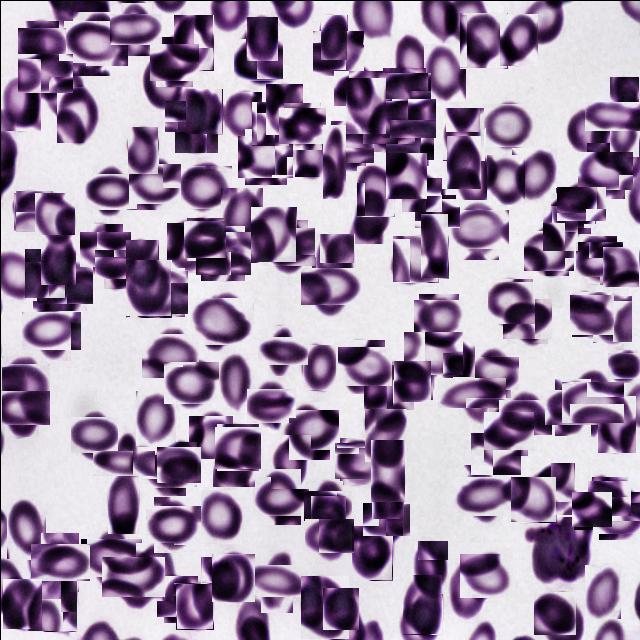red blood cell: (26, 559, 77, 631), (193, 293, 249, 349), (300, 575, 348, 638), (68, 15, 122, 70), (106, 550, 158, 602), (566, 376, 618, 428), (459, 12, 507, 68), (125, 258, 171, 316), (407, 326, 458, 378), (448, 558, 490, 620), (250, 206, 296, 262), (145, 330, 195, 380), (86, 532, 136, 582), (453, 204, 503, 254), (284, 404, 334, 454), (458, 470, 508, 520), (39, 257, 89, 307), (511, 147, 556, 202), (446, 367, 496, 416), (423, 43, 465, 101), (167, 358, 216, 407), (484, 100, 533, 149), (462, 550, 511, 599), (26, 306, 76, 354), (240, 132, 290, 180), (402, 574, 442, 634), (45, 62, 85, 122), (363, 363, 414, 410), (220, 187, 262, 244), (6, 497, 45, 558), (392, 34, 431, 95), (141, 52, 182, 110), (180, 162, 228, 211), (348, 187, 390, 243), (56, 86, 98, 142), (198, 228, 246, 277), (566, 107, 612, 158), (345, 77, 386, 134), (597, 89, 640, 143), (200, 489, 242, 544), (148, 500, 196, 548), (252, 556, 300, 604), (35, 538, 83, 586), (256, 472, 304, 520), (313, 28, 361, 76), (340, 342, 388, 390), (380, 70, 428, 118), (306, 262, 354, 310), (455, 150, 496, 206), (20, 49, 68, 96), (384, 95, 432, 142), (351, 525, 392, 580), (0, 359, 46, 408), (174, 102, 218, 153), (135, 390, 175, 446), (173, 14, 213, 70), (364, 408, 406, 461), (442, 107, 484, 160), (533, 462, 574, 516), (130, 160, 178, 206), (582, 146, 628, 194), (135, 542, 173, 600), (597, 395, 635, 452), (392, 235, 438, 282), (549, 383, 595, 430), (270, 434, 310, 488), (0, 76, 40, 130), (216, 353, 252, 412), (265, 223, 311, 269), (235, 36, 281, 82), (139, 268, 185, 314), (472, 430, 518, 476), (510, 476, 556, 522), (370, 439, 404, 501), (596, 489, 640, 536), (315, 233, 354, 286), (436, 334, 475, 387), (211, 553, 254, 601), (24, 248, 65, 298), (2, 578, 42, 629), (504, 296, 549, 341), (526, 226, 570, 272), (488, 280, 534, 324), (0, 384, 44, 430), (366, 102, 410, 148), (166, 222, 206, 272), (34, 192, 74, 242), (88, 168, 132, 213), (416, 296, 460, 341), (215, 424, 259, 469), (499, 13, 537, 65), (584, 564, 620, 618), (412, 540, 448, 594), (356, 165, 394, 216), (502, 394, 546, 438), (101, 441, 145, 485), (152, 39, 196, 83), (486, 408, 530, 452), (486, 154, 524, 204), (82, 227, 126, 270), (188, 415, 232, 458), (336, 66, 379, 110), (107, 472, 138, 533), (265, 83, 302, 134), (385, 152, 426, 198), (592, 295, 632, 342), (533, 591, 576, 634), (170, 94, 212, 138), (420, 213, 448, 278), (336, 439, 378, 482), (19, 23, 62, 65), (446, 135, 480, 188), (310, 495, 346, 545), (250, 384, 292, 426), (72, 414, 114, 456), (326, 124, 368, 166), (472, 352, 514, 394), (577, 238, 619, 280), (388, 120, 430, 162), (308, 514, 350, 556), (570, 292, 612, 334), (560, 182, 602, 224), (40, 234, 75, 284), (175, 583, 213, 629), (147, 450, 189, 491), (115, 8, 156, 50), (280, 105, 322, 146), (251, 101, 289, 146), (185, 88, 222, 134), (322, 124, 345, 198), (225, 91, 261, 137), (542, 205, 578, 251), (158, 443, 198, 484), (212, 447, 254, 486), (160, 578, 200, 618), (552, 190, 592, 230), (366, 498, 406, 538), (14, 190, 54, 230), (307, 484, 347, 524), (416, 190, 456, 230), (391, 360, 431, 400), (588, 478, 628, 518), (184, 218, 224, 258), (125, 239, 158, 287), (302, 344, 336, 390), (262, 330, 301, 370), (99, 244, 138, 284), (322, 587, 358, 629), (292, 132, 326, 176), (127, 126, 158, 174), (600, 247, 638, 286), (371, 472, 403, 518), (202, 554, 240, 592), (572, 490, 610, 528), (244, 16, 276, 60), (402, 175, 439, 212), (320, 14, 347, 60), (608, 350, 638, 380)
trophozoite: (526, 514, 590, 581)
